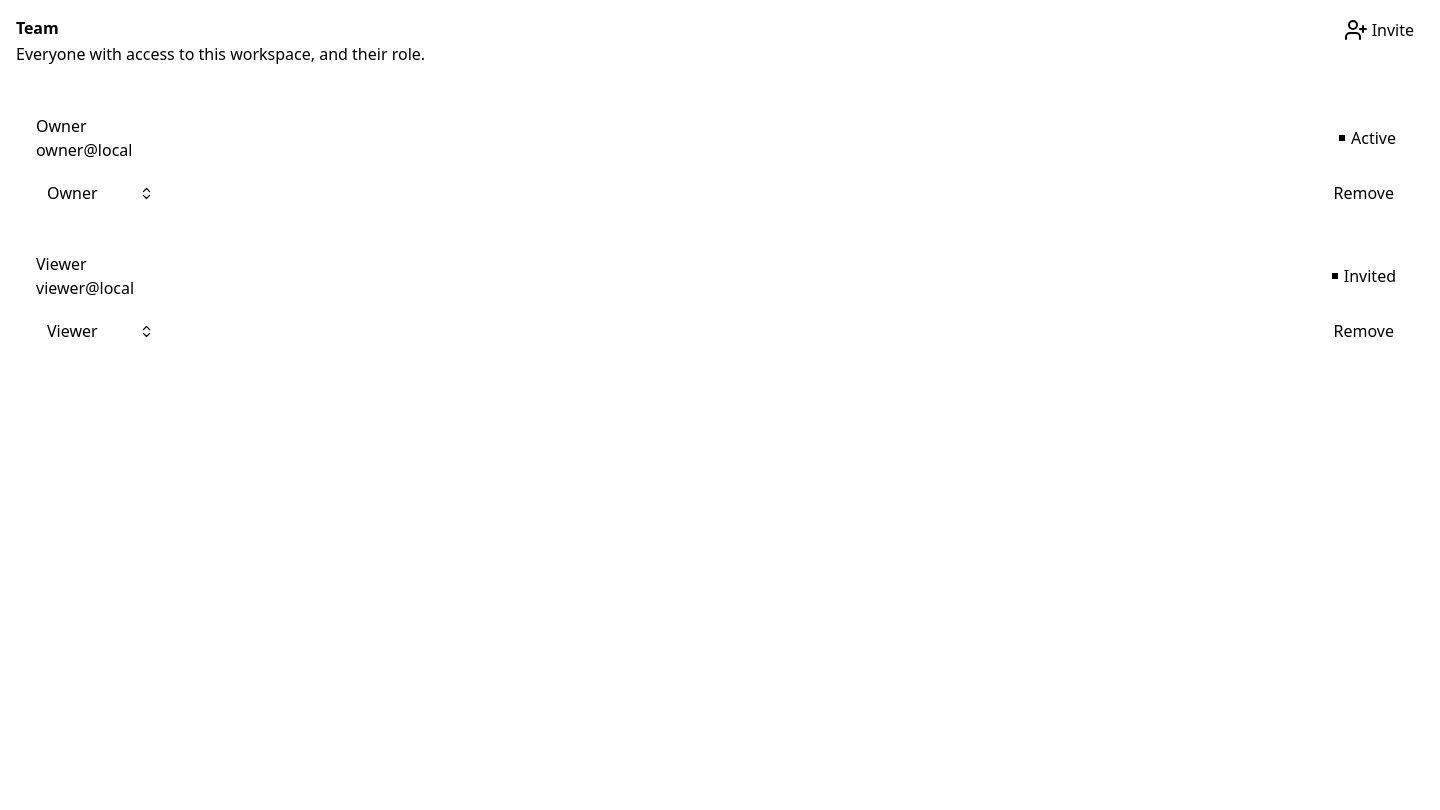
Scenario: TeamTab › invites someone and shows the one-time link
The width and height of the screenshot is (1440, 810).
Step 1. Click the button "Invite" → (1379,30), box [1334,16,1424,44]
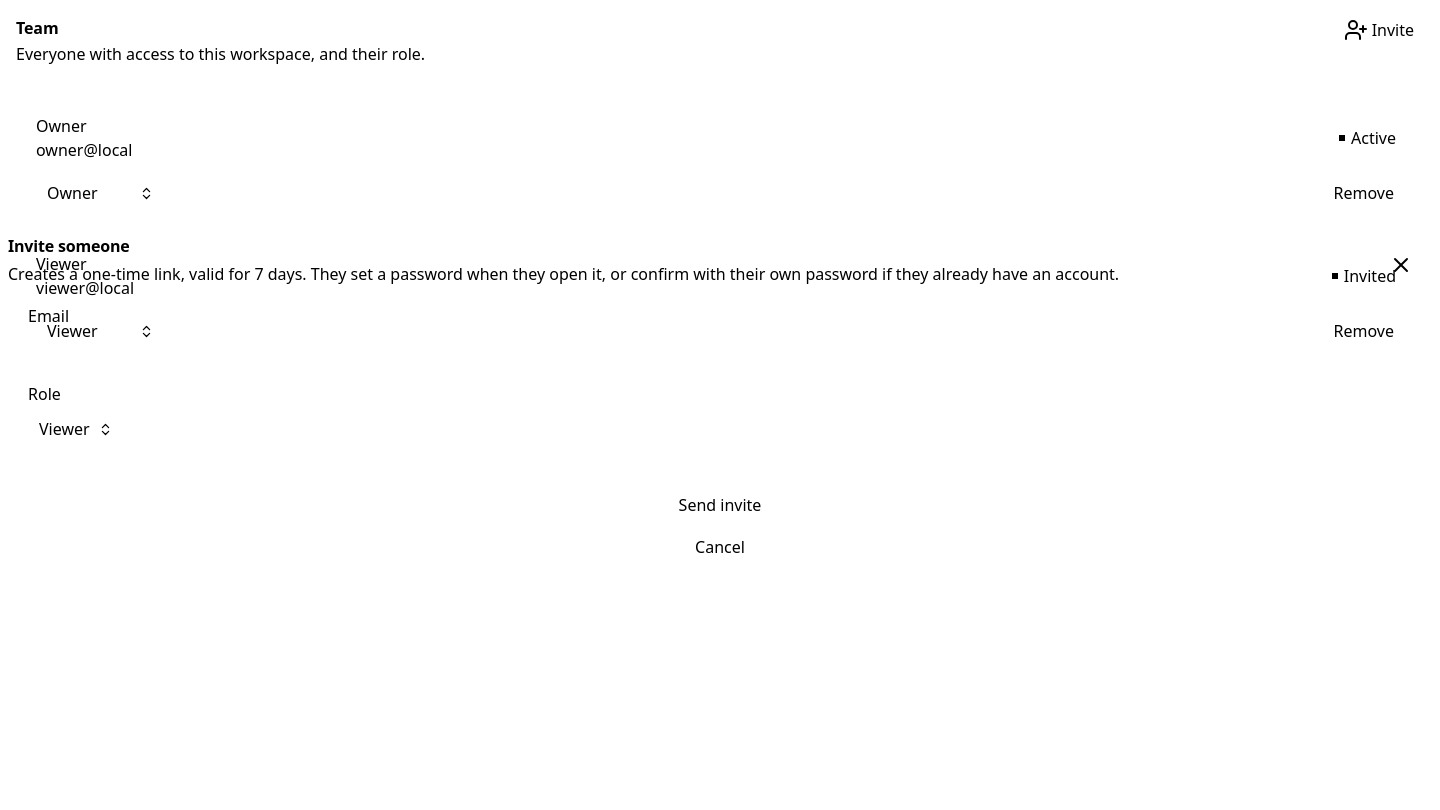
Step 2. Type "new@example.com" into the field labelled "Email" → (720,350), box [28,332,1412,368]
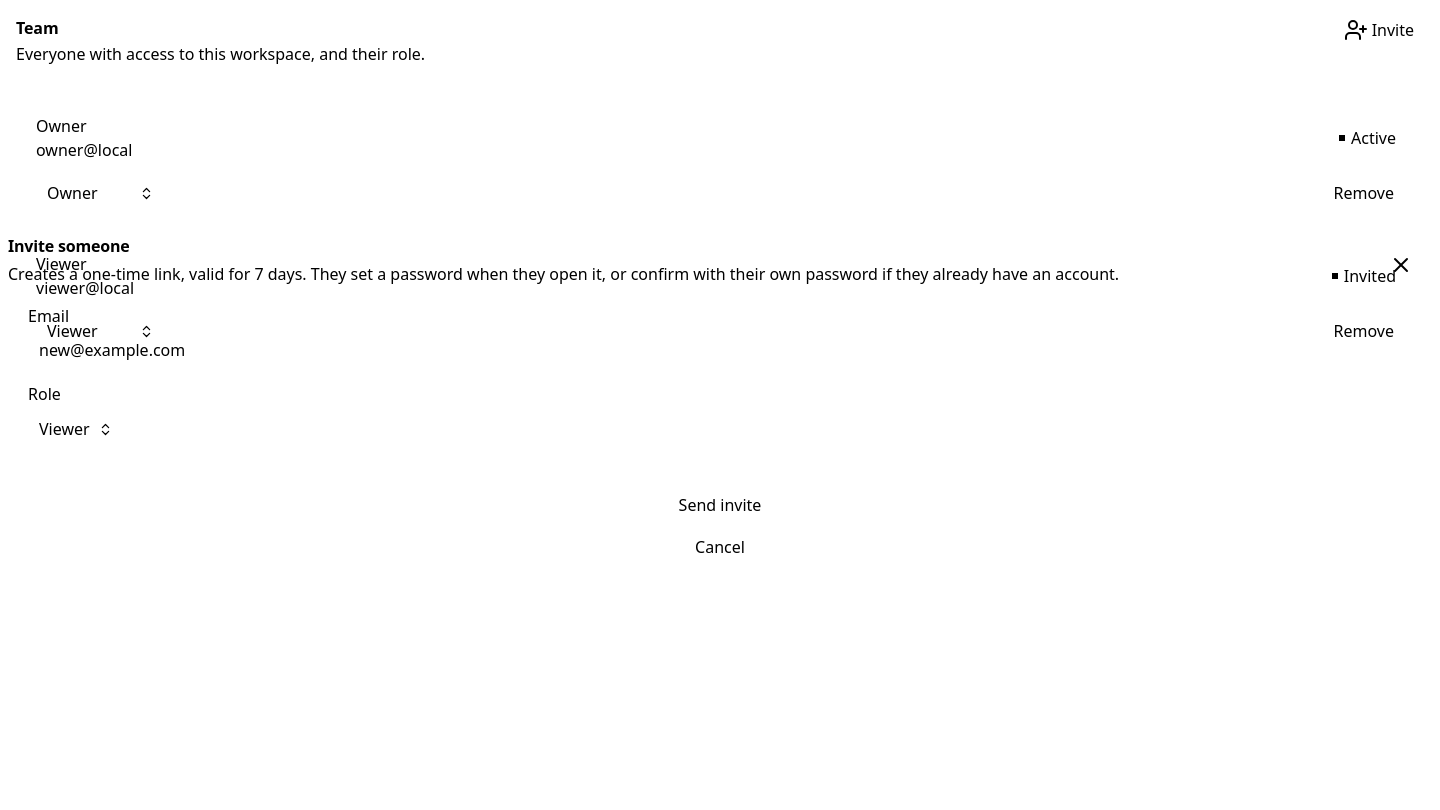
Step 3. Click the button "Send invite" → (720,505), box [8,488,1432,522]
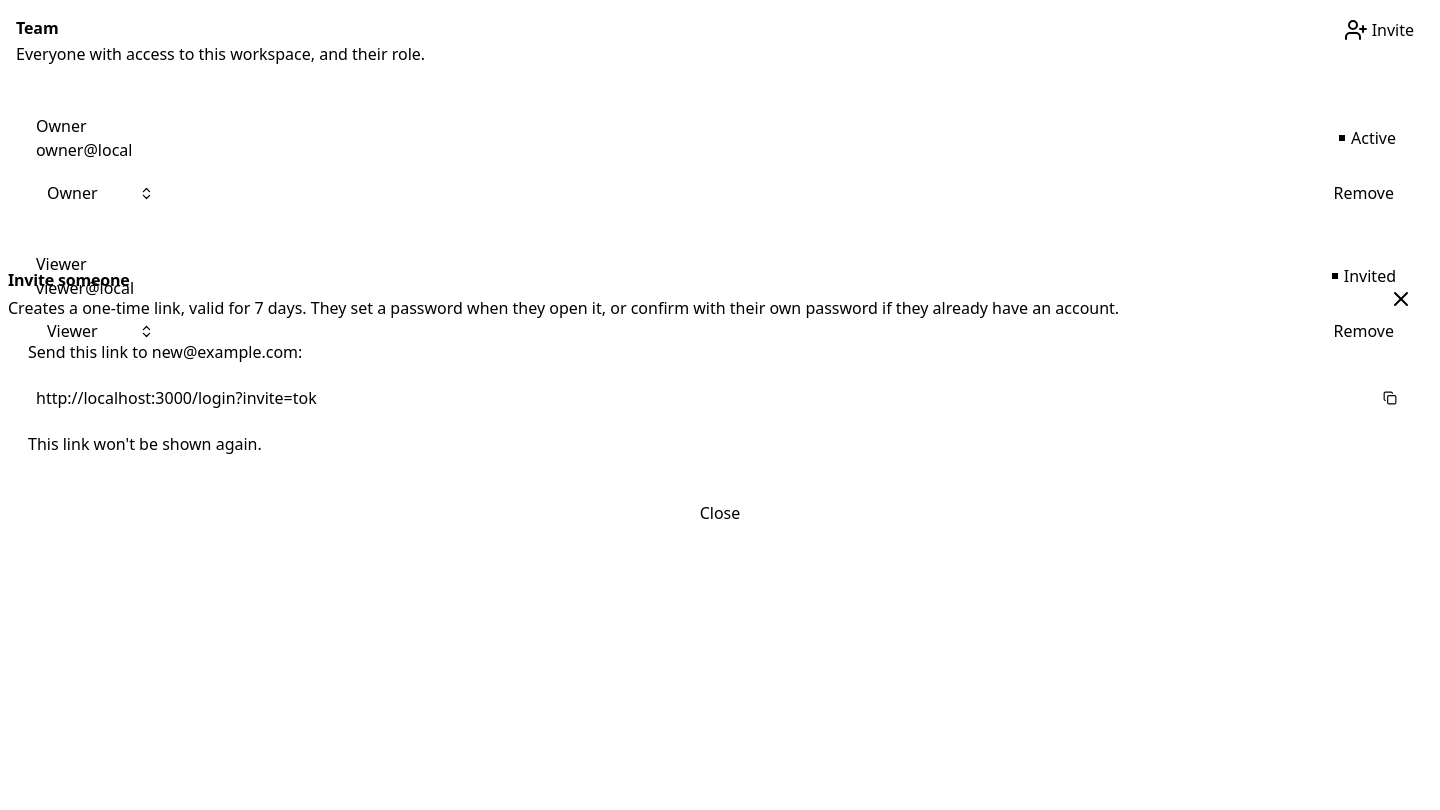
Now the text "http://localhost:3000/login?invite=tok" is shown, box [36,387,317,409]
